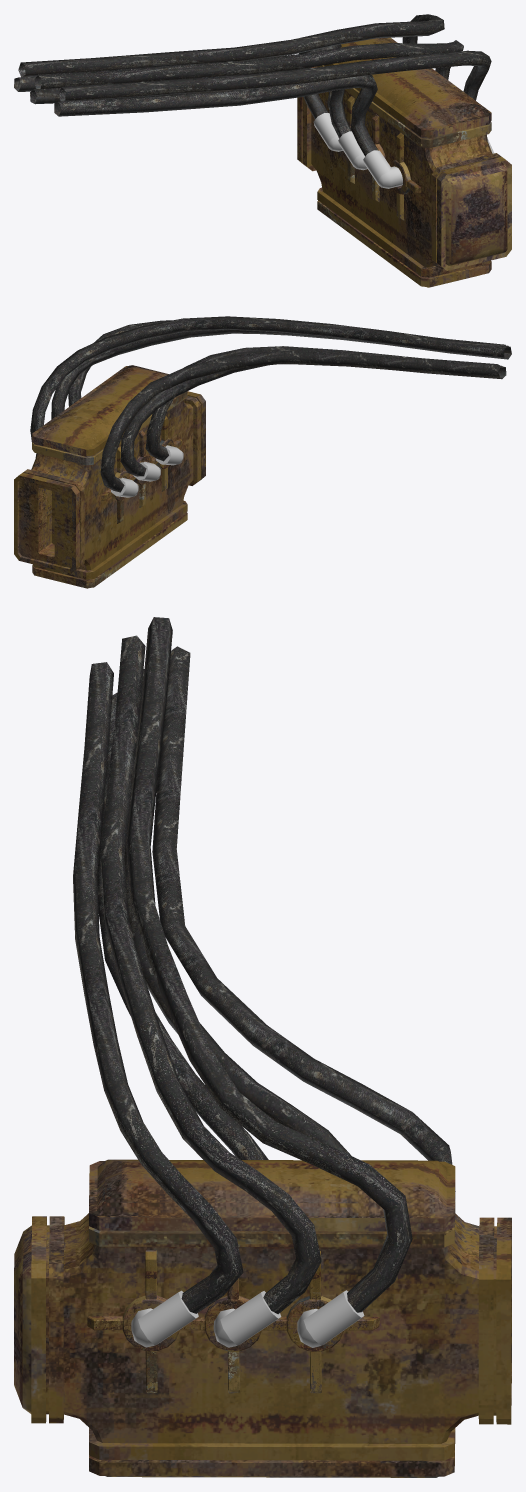
File: Device.fbx
The picture shows the model from 3 angles, top to bottom: view 1: azimuth 30°, elevation 25°; view 2: azimuth 150°, elevation 25°; view 3: azimuth 270°, elevation 25°; orthographic projection. The views are drawn at different scales.
Visible parts, largest first — view 1: mesh_0.2296, mesh_3.332, mesh_2.506; view 2: mesh_0.2296, mesh_3.332, mesh_2.506; view 3: mesh_0.2296, mesh_3.332, mesh_2.506.
Boxes of the visible parts, bbox=[...] form: mesh_0.2296: bbox=[297, 37, 511, 287]; mesh_3.332: bbox=[14, 14, 491, 156]; mesh_2.506: bbox=[313, 113, 494, 188]; mesh_0.2296: bbox=[14, 365, 205, 588]; mesh_3.332: bbox=[30, 316, 511, 492]; mesh_2.506: bbox=[111, 445, 183, 497]; mesh_0.2296: bbox=[14, 1159, 511, 1477]; mesh_3.332: bbox=[73, 617, 455, 1314]; mesh_2.506: bbox=[131, 1290, 364, 1347].
Size of the model in its own units: 1.53 by 0.9539 by 0.839.
